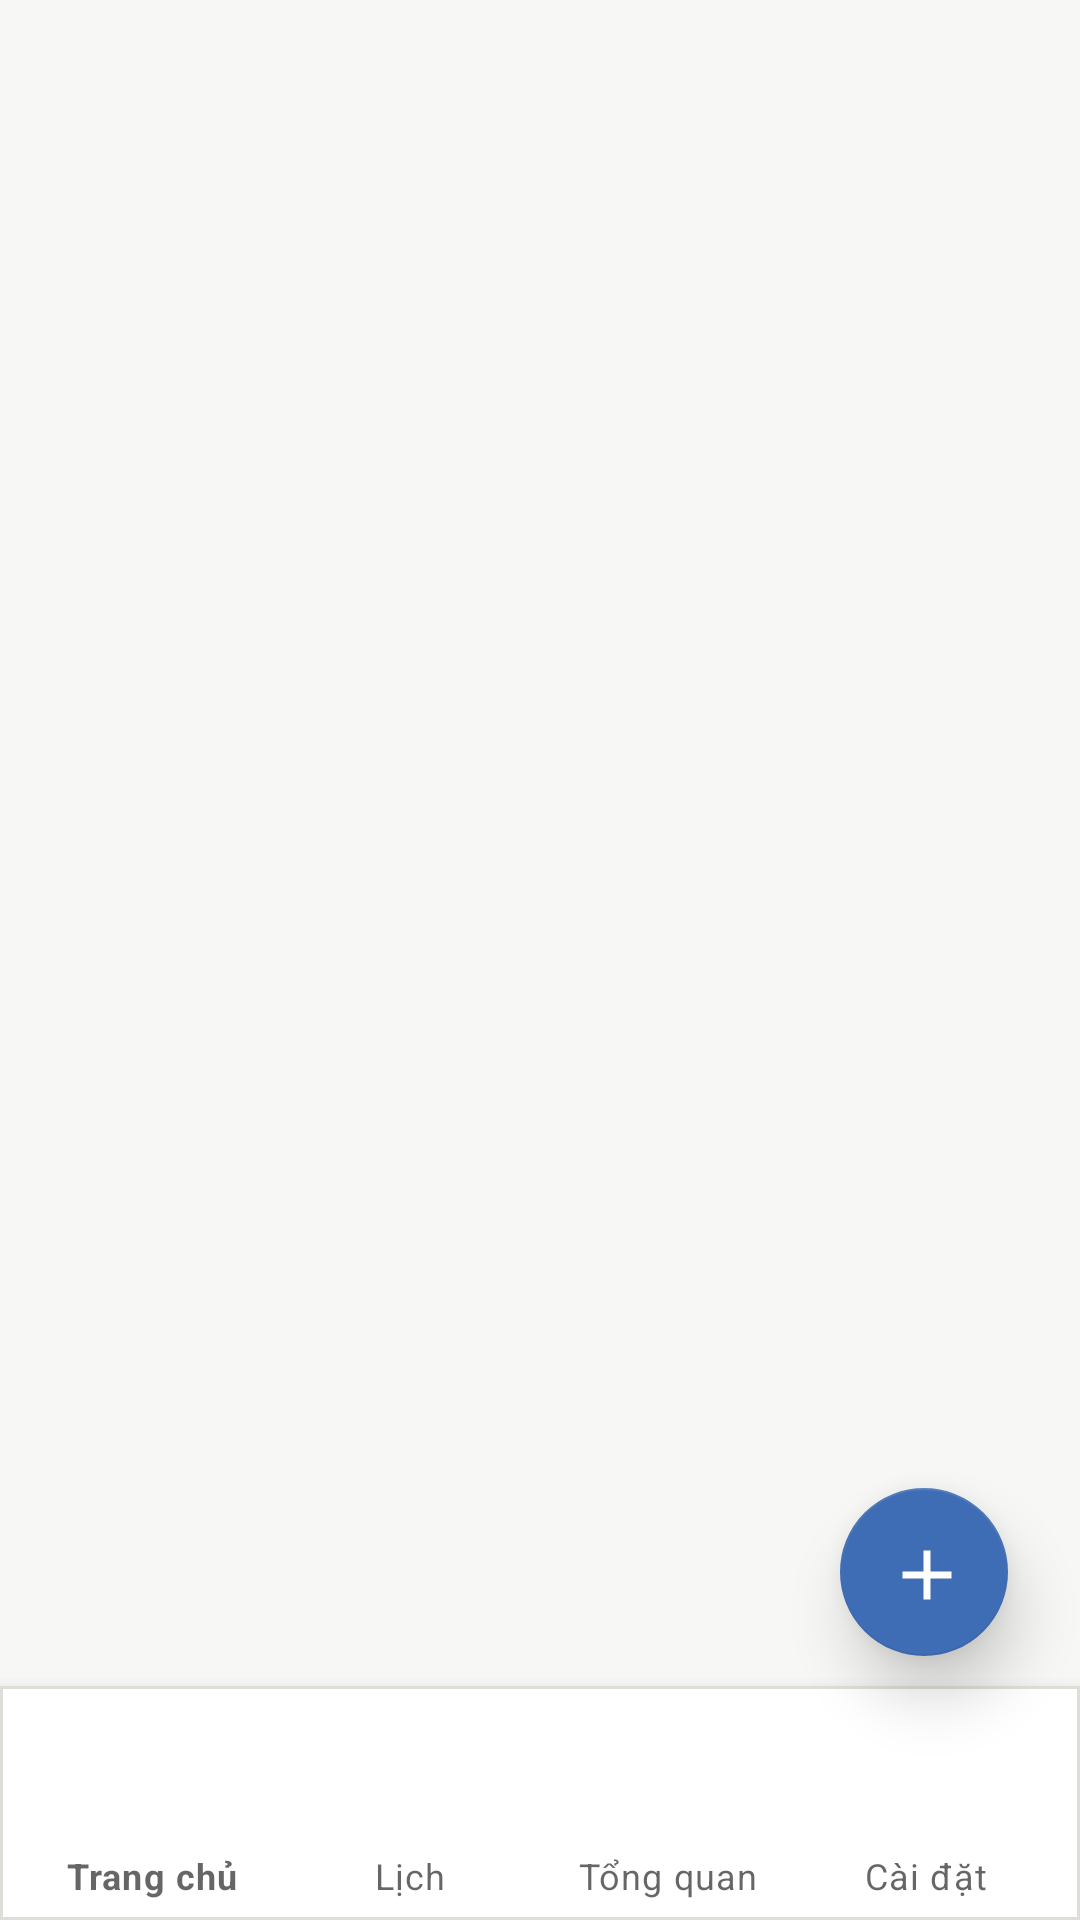

Where to tap for icons on this 1080px×1920px app screen, as (x,y):
Thêm: (924,1572)
